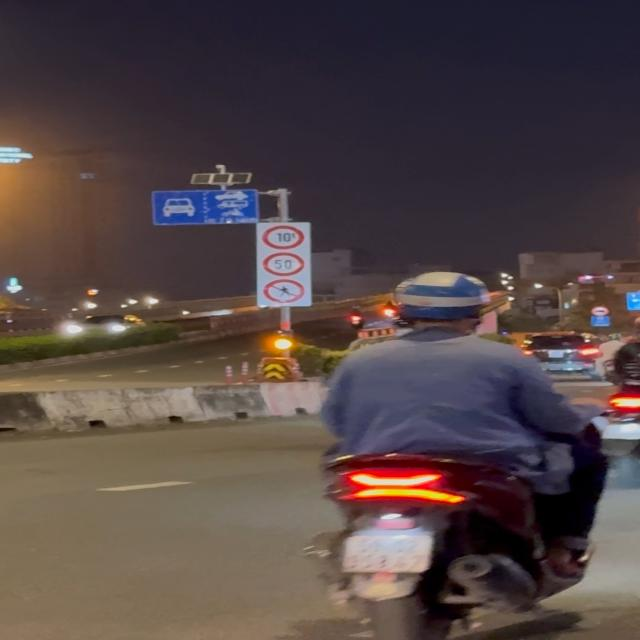Bien bao cam nguoi di bo: (263, 279, 310, 305)
Bien bao toc do toi da cho phep: (261, 252, 312, 278)
